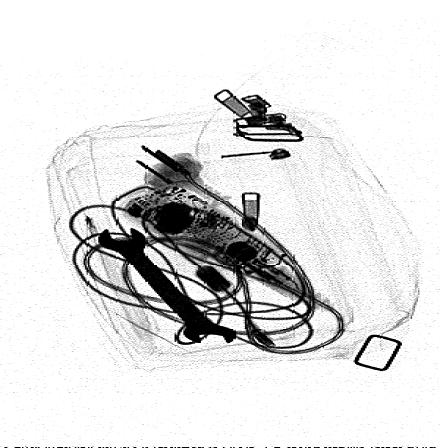Wrench: (97, 226, 241, 345)
